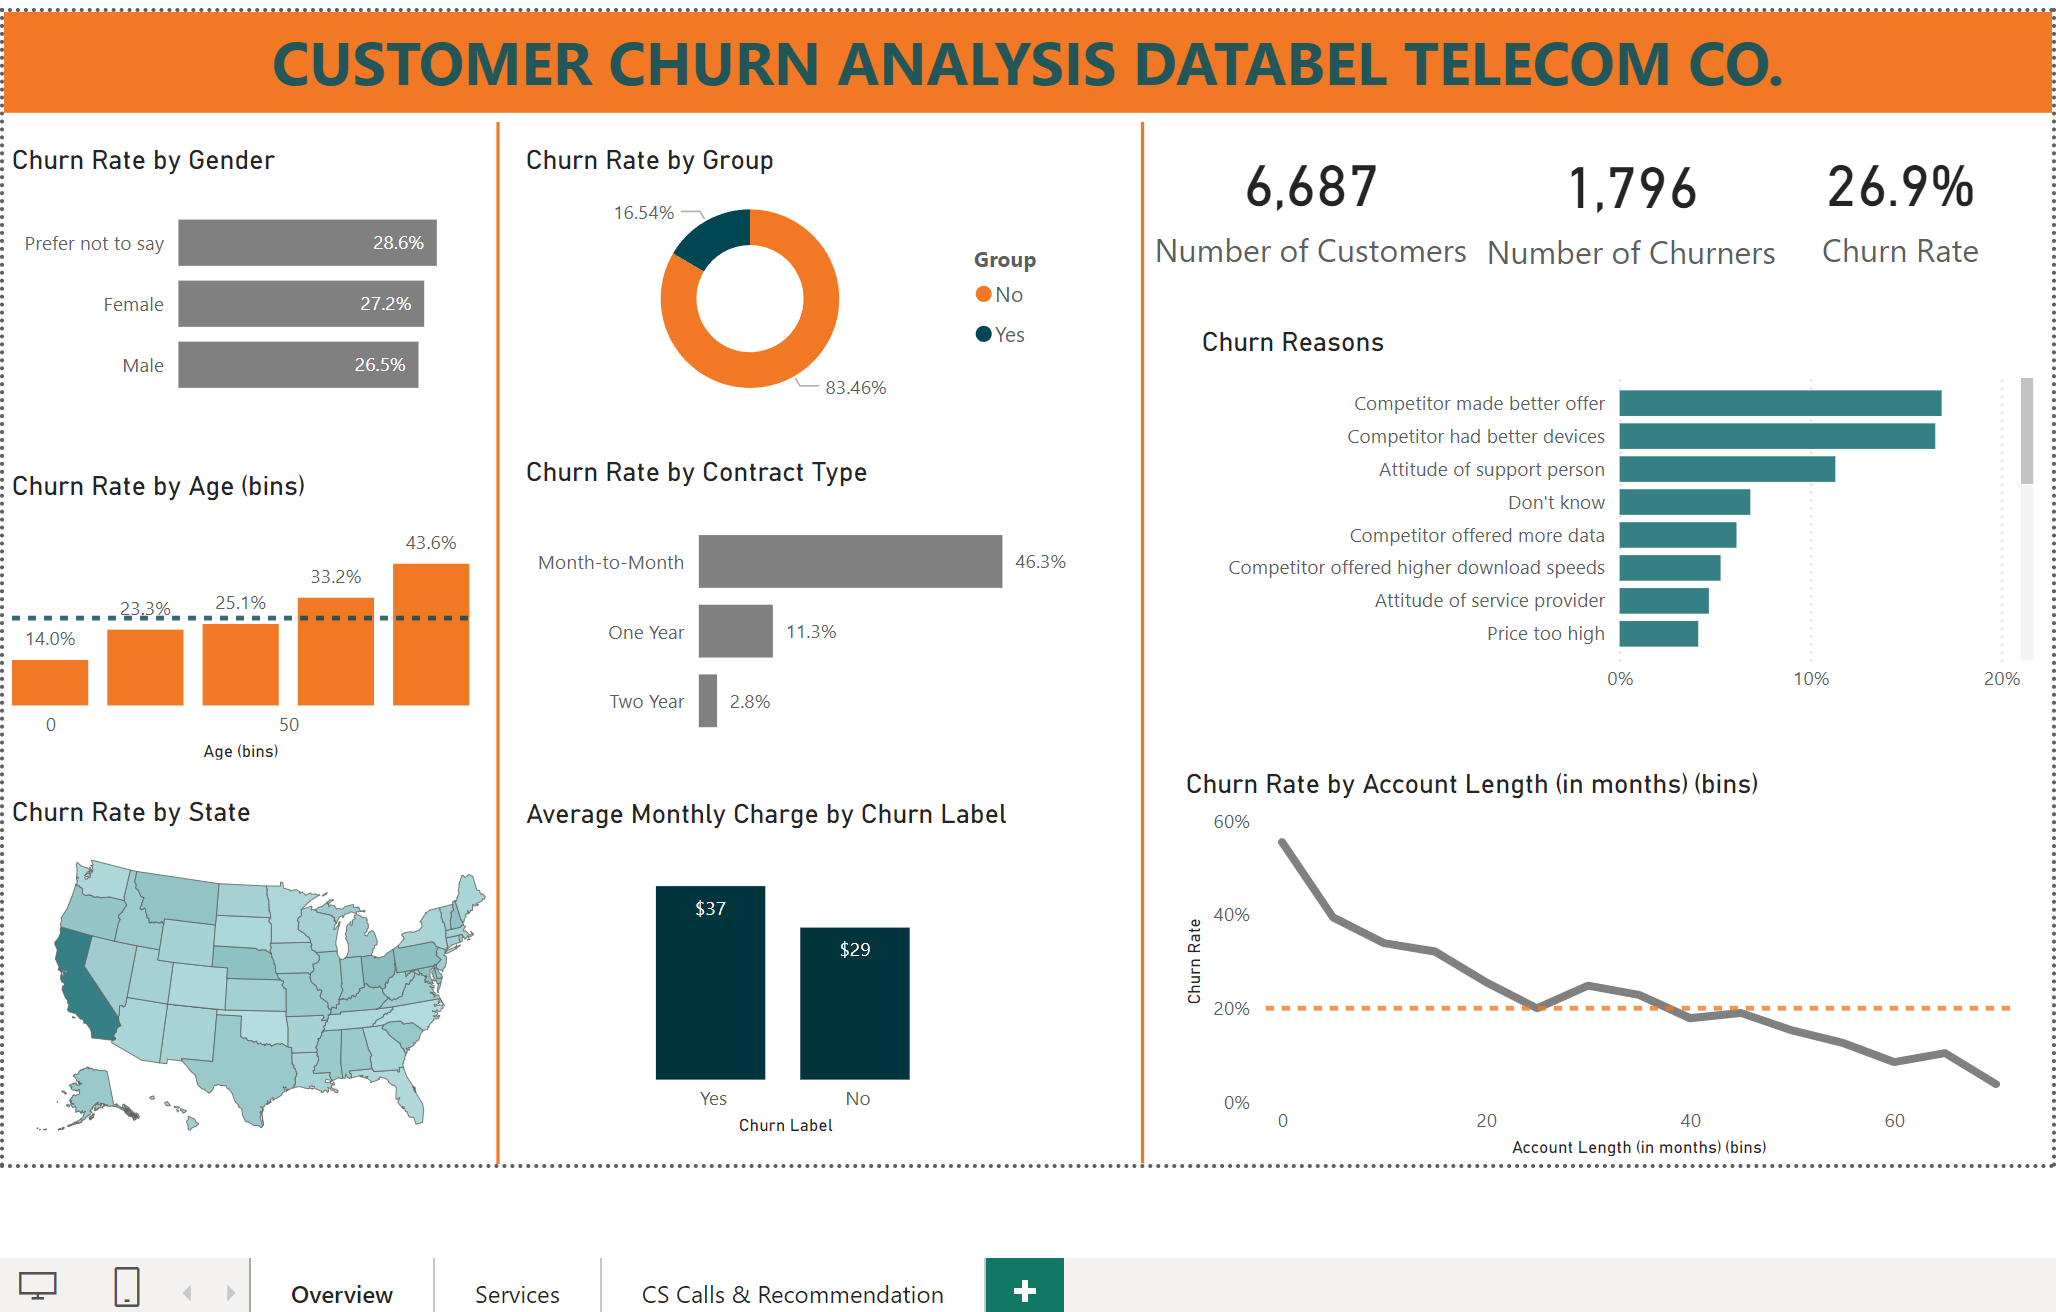

The dashboard page shown, as its layout file describes it:
{"tool":"powerbi","page":{"name":"Overview","canvas":[1280,720],"ordinal":0},"visuals":[{"type":"card","fields":{"Values":["Databel.Number of Customers"]},"box":[736.1,75.4,155.8,100.3],"z":0},{"type":"card","fields":{"Values":["Databel.Number of Churned Customers"]},"box":[920.1,75.2,155.8,100.3],"z":1000},{"type":"card","fields":{"Values":["Databel.Churn Rate"]},"box":[1104.2,75.2,155.8,100.3],"z":2000},{"type":"shapeMap","fields":{"Category":["Databel.State"],"Value":["Databel.Churn Rate"]},"box":[0,490,321.4,230],"z":3000},{"type":"clusteredBarChart","title":"Churn Rate by Gender","fields":{"Category":["Databel.Gender"],"Y":["Databel.Churn Rate"]},"box":[0,82.9,310,174.3],"z":4000},{"type":"columnChart","fields":{"Category":["Databel.Age (bins)"],"Y":["Databel.Churn Rate"]},"box":[0,285.7,288.4,170.1],"z":5000},{"type":"clusteredBarChart","title":"Churn Reasons","fields":{"Category":["Databel.Churn Category","Databel.Churn Reason"],"Y":["Databel.Churn %"]},"box":[743.2,196.3,529.6,238.1],"z":6000},{"type":"clusteredColumnChart","fields":{"Category":["Databel.Group"],"Y":["Databel.Churn Rate"]},"box":[321.4,82.9,350,174.3],"z":7000},{"type":"clusteredBarChart","fields":{"Category":["Databel.Contract Type"],"Y":["Databel.Churn Rate"]},"box":[321.2,277.5,350,193.8],"z":8000},{"type":"lineChart","fields":{"Category":["Databel.Account Length (in months) (bins)"],"Y":["Databel.Churn Rate"]},"box":[733.4,458.5,526.6,247.2],"z":9000},{"type":"shape","box":[296.2,68.8,25,651.2],"z":10000},{"type":"shape","box":[695.6,69.3,33.2,650.8],"z":11000},{"type":"clusteredColumnChart","fields":{"Category":["Databel.Churn Label"],"Y":["Databel.Average Monthly Charge"]},"box":[321.8,490.6,334.8,215],"z":12000},{"type":"textbox","box":[0,0,1280,63],"z":13000}]}

Visuals, with their boxes on the page's 1280x720 design canvas (x1, y1, x2, y2). These are canvas units, not pixel positions in the 2056x1312 screenshot, which may show the page scaled, cropped or inside an application window:
card - Databel.Number of Customers: pyautogui.locateOnScreen(736, 75, 892, 176)
card - Databel.Number of Churned Customers: pyautogui.locateOnScreen(920, 75, 1076, 176)
card - Databel.Churn Rate: pyautogui.locateOnScreen(1104, 75, 1260, 176)
shapeMap - Databel.State x Databel.Churn Rate: pyautogui.locateOnScreen(0, 490, 321, 720)
"Churn Rate by Gender" clusteredBarChart: pyautogui.locateOnScreen(0, 83, 310, 257)
columnChart - Databel.Age (bins) x Databel.Churn Rate: pyautogui.locateOnScreen(0, 286, 288, 456)
"Churn Reasons" clusteredBarChart: pyautogui.locateOnScreen(743, 196, 1273, 434)
clusteredColumnChart - Databel.Group x Databel.Churn Rate: pyautogui.locateOnScreen(321, 83, 671, 257)
clusteredBarChart - Databel.Contract Type x Databel.Churn Rate: pyautogui.locateOnScreen(321, 278, 671, 471)
lineChart - Databel.Account Length (in months) (bins) x Databel.Churn Rate: pyautogui.locateOnScreen(733, 458, 1260, 706)
shape: pyautogui.locateOnScreen(296, 69, 321, 720)
shape: pyautogui.locateOnScreen(696, 69, 729, 720)
clusteredColumnChart - Databel.Churn Label x Databel.Average Monthly Charge: pyautogui.locateOnScreen(322, 491, 657, 706)
textbox: pyautogui.locateOnScreen(0, 0, 1280, 63)
